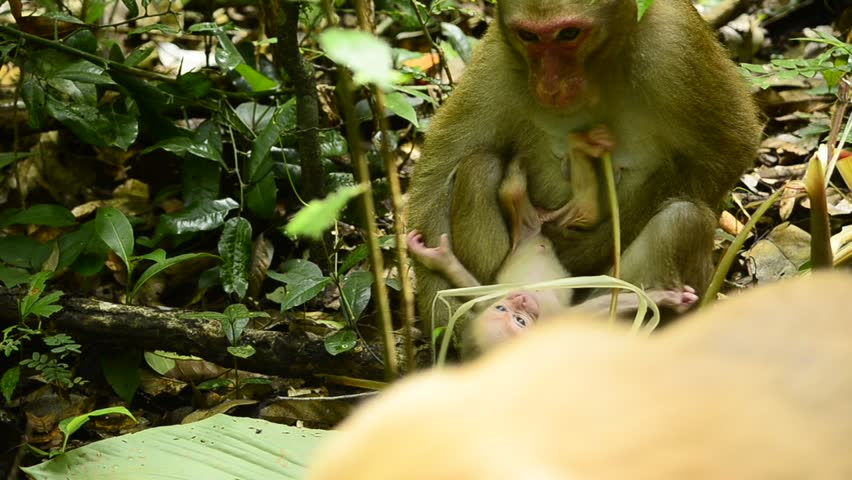monkey: (411, 1, 767, 342), (397, 114, 742, 382)
